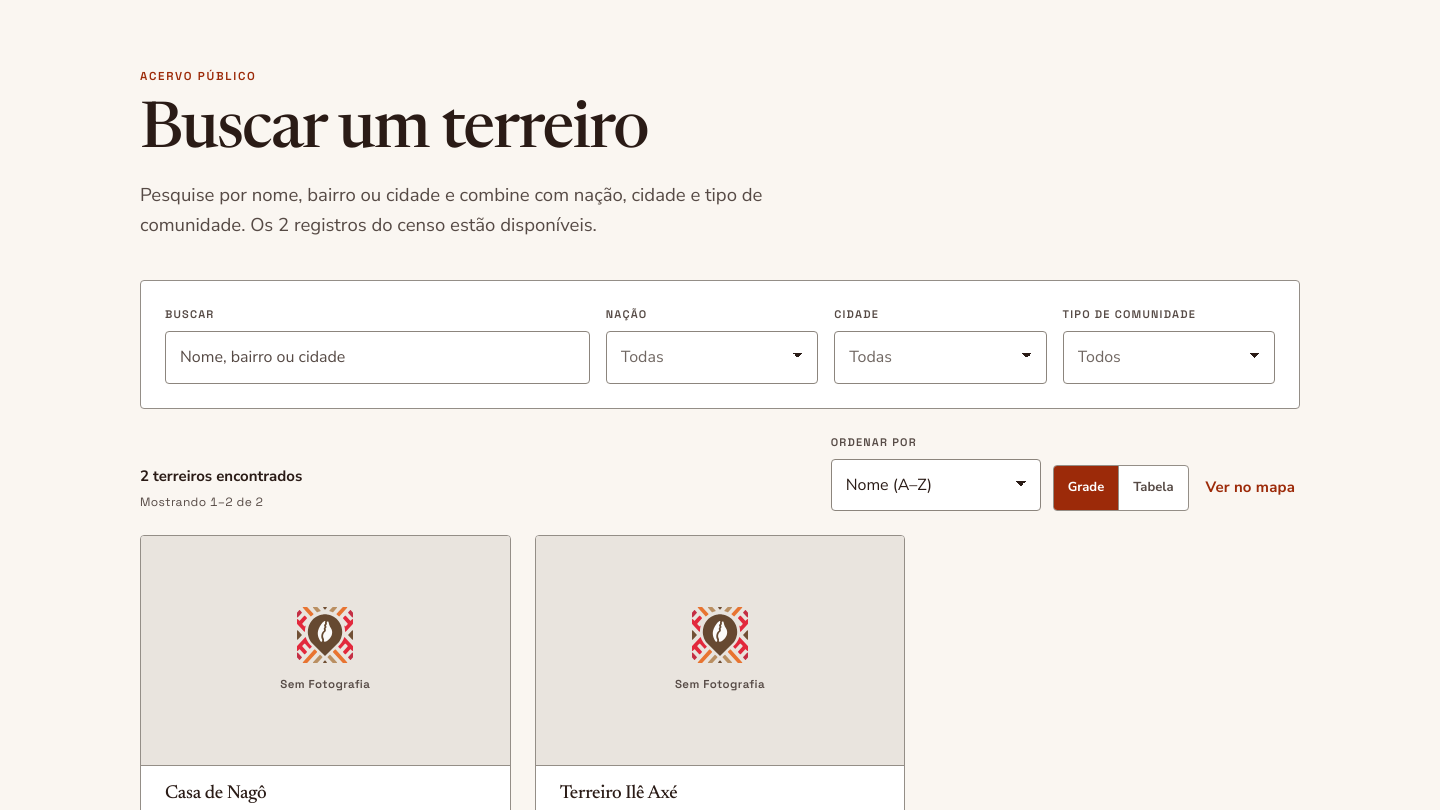
Test: Fluxo de busca › filtra localmente quando o filtro de texto muda
Expected: the text "2 terreiros encontrados" is shown, [140, 464, 302, 489]
Type "nagô" into the field labelled "Buscar". click: (377, 357)
box: [165, 331, 590, 384]
(page scrolled)
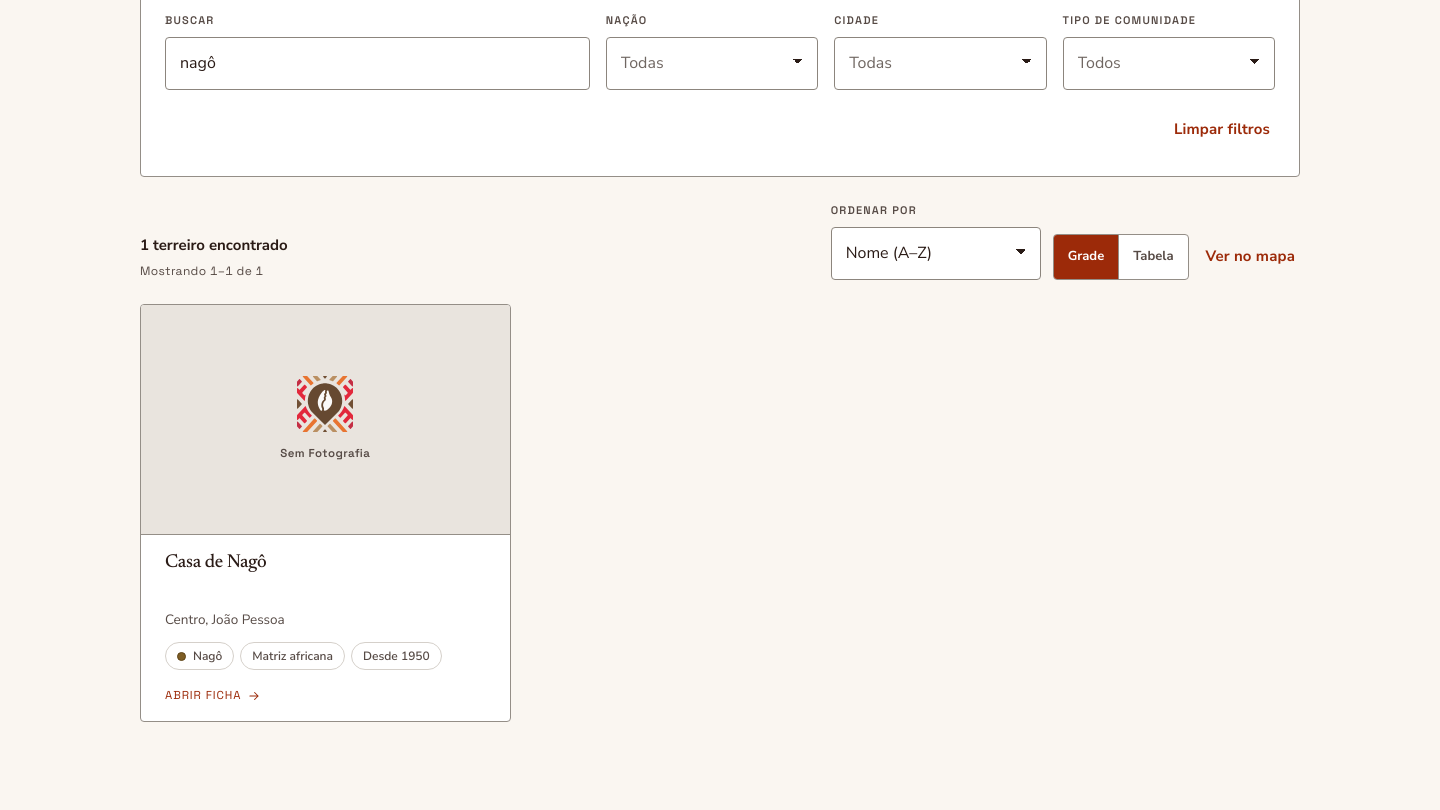
Expected: the link "Casa de Nagô" is shown, [140, 304, 511, 722]
Now the text "1 terreiro encontrado" is shown, box [140, 233, 288, 258]
